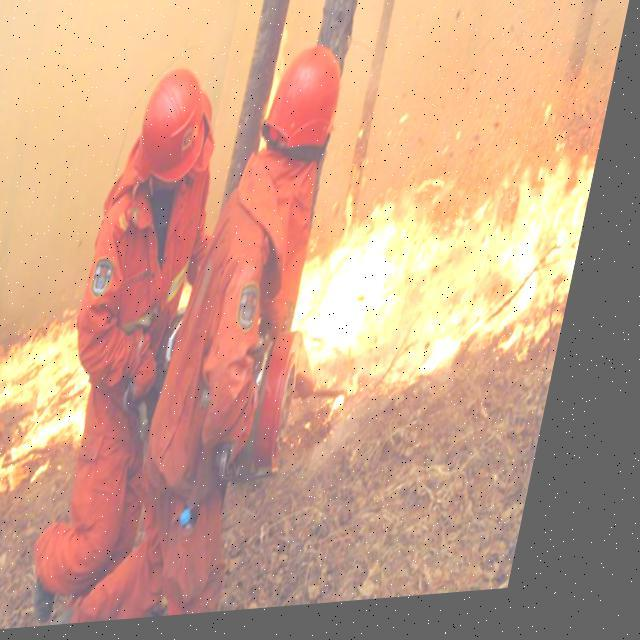Fire: (294, 104, 614, 404)
